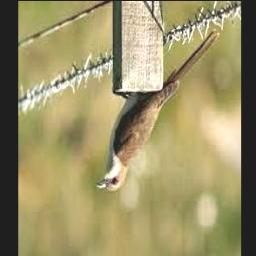Cuckoo: (96, 31, 219, 191)
